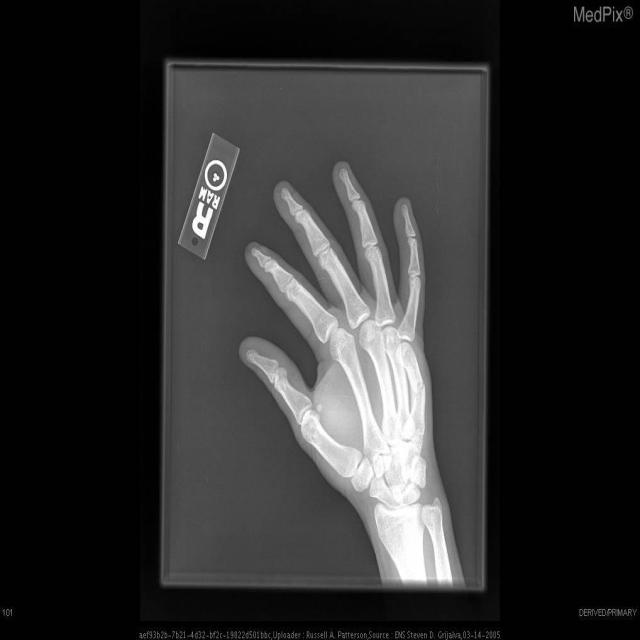fracture: (409, 380, 426, 401)
